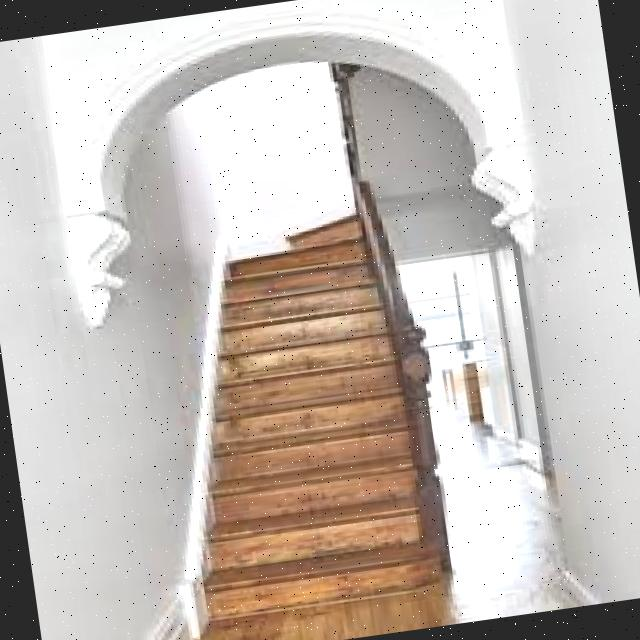stairs: (150, 199, 458, 622)
